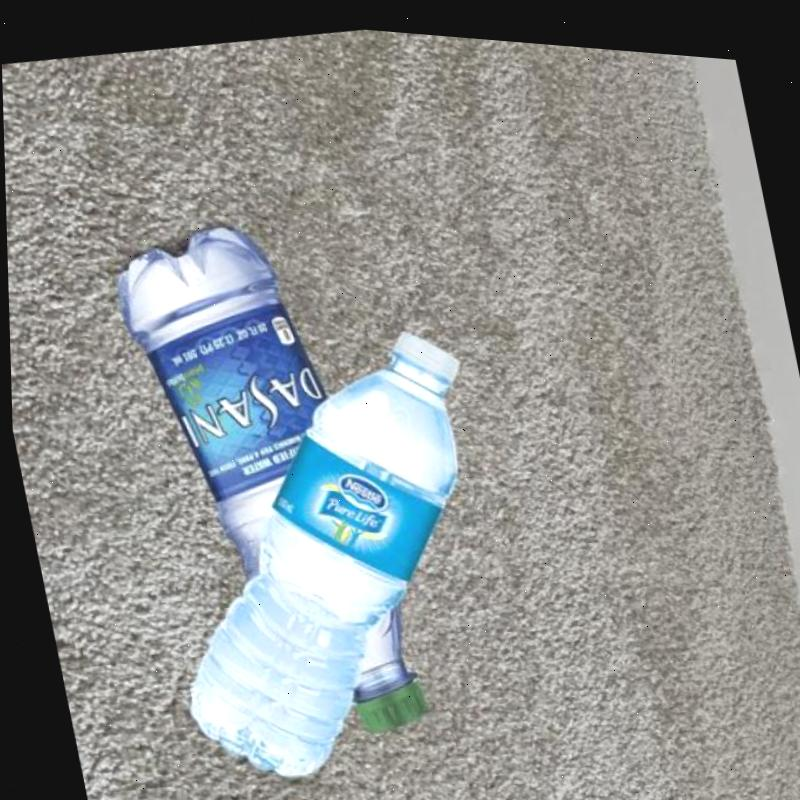botella: (110, 293, 536, 800), (109, 198, 431, 760)
